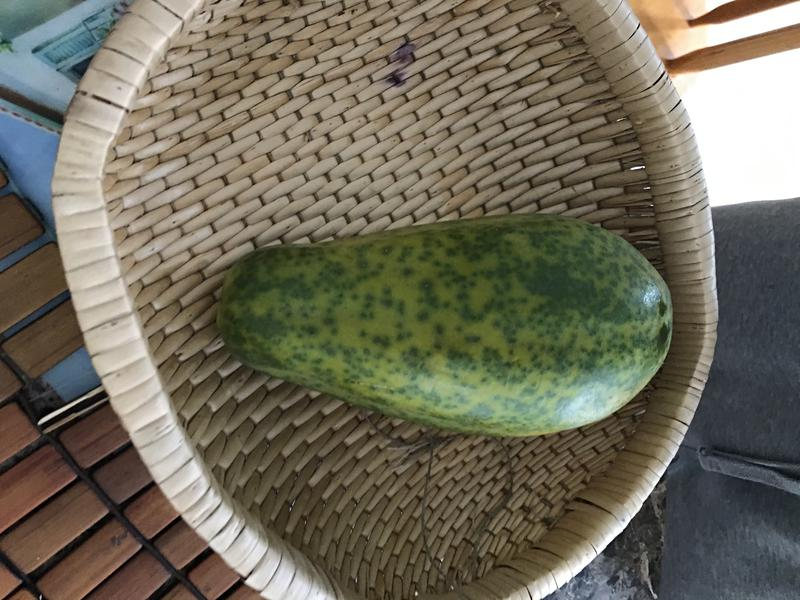papaya: (205, 204, 689, 448)
